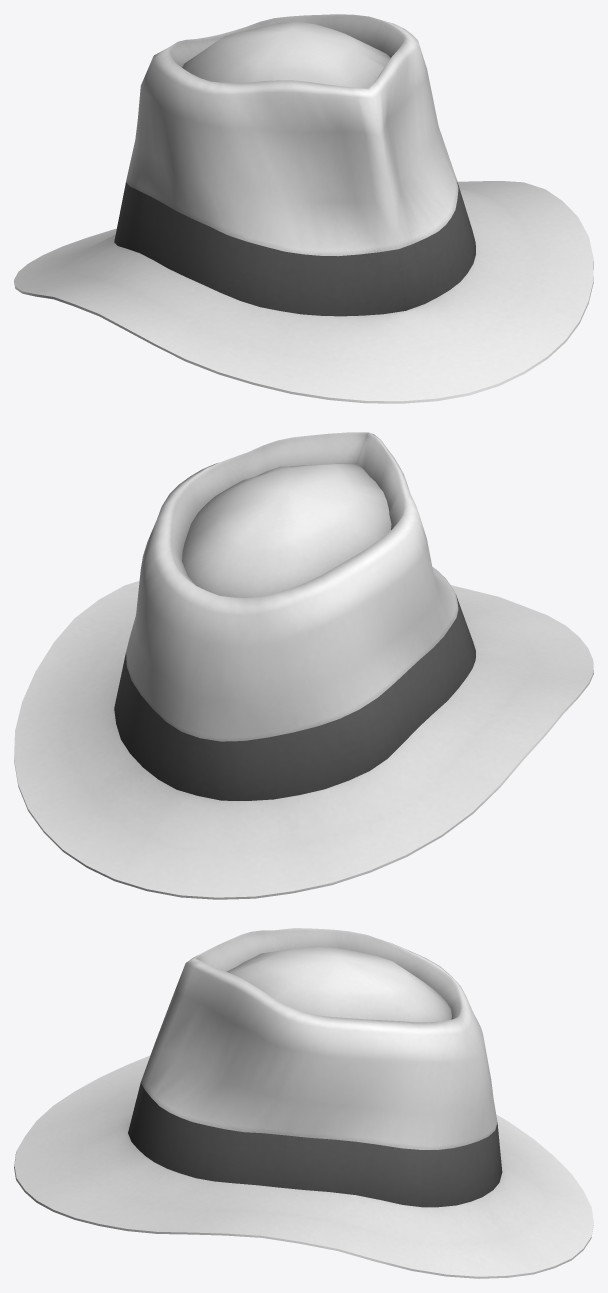
The model's file is mafia_hat_spy_hat.glb.
3 renders of one model, top to bottom at view 1: azimuth 30°, elevation 25°; view 2: azimuth 150°, elevation 25°; view 3: azimuth 270°, elevation 25°, orthographic. The views are drawn at different scales.
Parts seen in each view (by area): view 1: Object_6; view 2: Object_6; view 3: Object_6.
Part boxes in pixels (x1,y1,x2,y2): Object_6: (14,14,593,403); Object_6: (14,432,593,899); Object_6: (14,928,593,1278).
Size of the model in its own units: 0.2129 by 0.1287 by 0.2522.
Materials: 1 (1 with a texture image).
